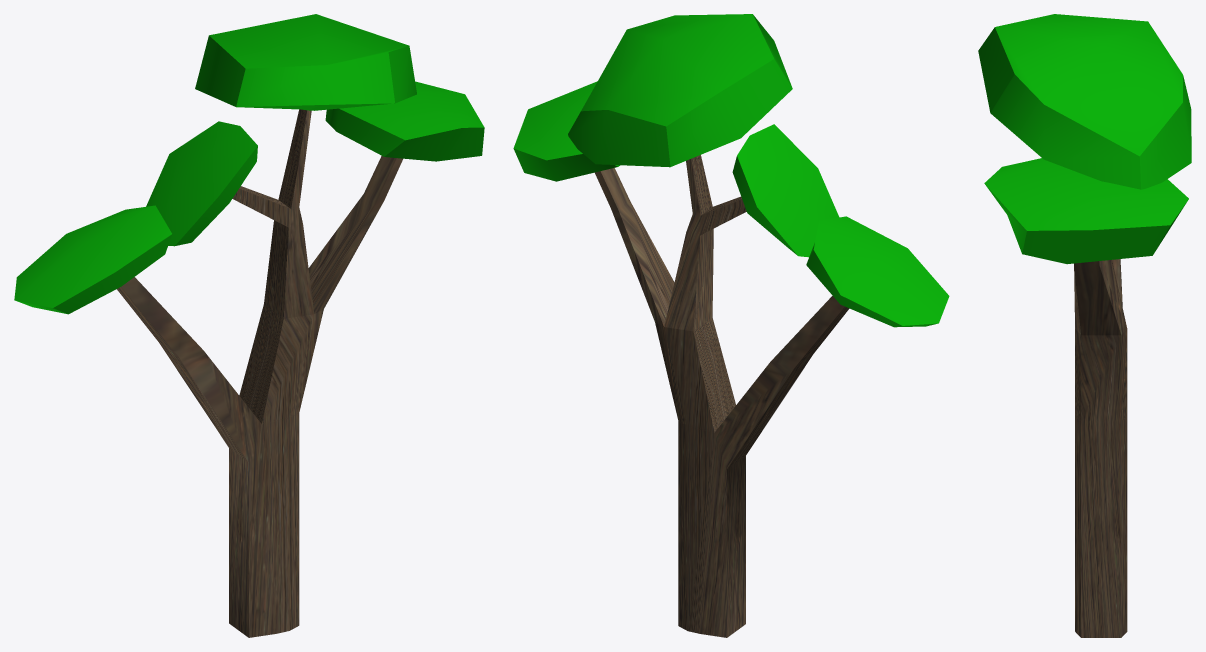
Rendered from model_utuh.fbx.
The picture shows the model from 3 angles, left to right: view 1: azimuth 30°, elevation 25°; view 2: azimuth 150°, elevation 25°; view 3: azimuth 270°, elevation 25°; orthographic projection. The views are drawn at different scales.
Parts seen in each view (by area): view 1: pPlane6; view 2: pPlane6; view 3: pPlane6.
Part boxes in pixels (bbox=[...]): pPlane6: bbox=[14, 14, 484, 637]; pPlane6: bbox=[513, 14, 949, 637]; pPlane6: bbox=[978, 14, 1191, 637].
Bounding box in the file's own units: 391 × 508 × 162.
